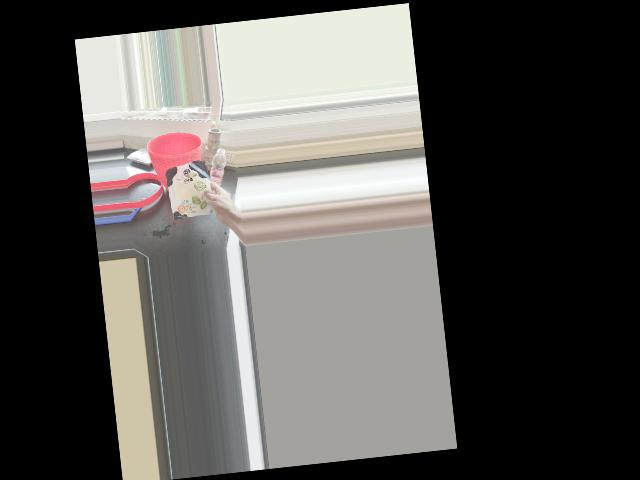cheese: (164, 157, 223, 215)
